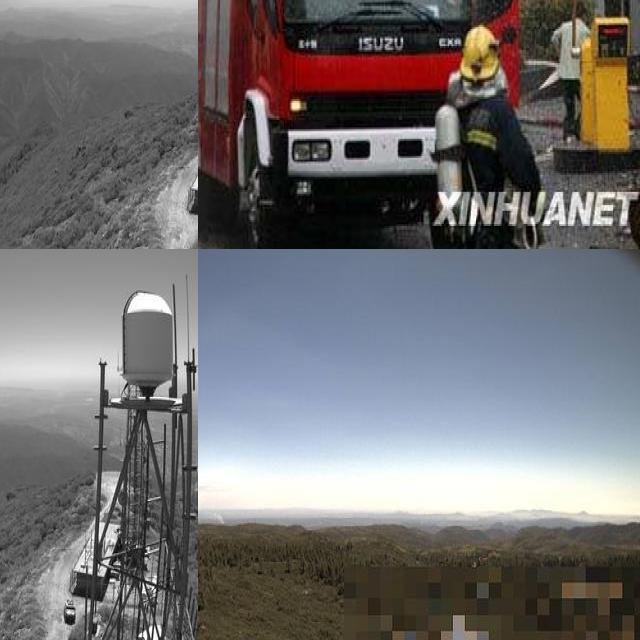smoke: (203, 499, 227, 526)
